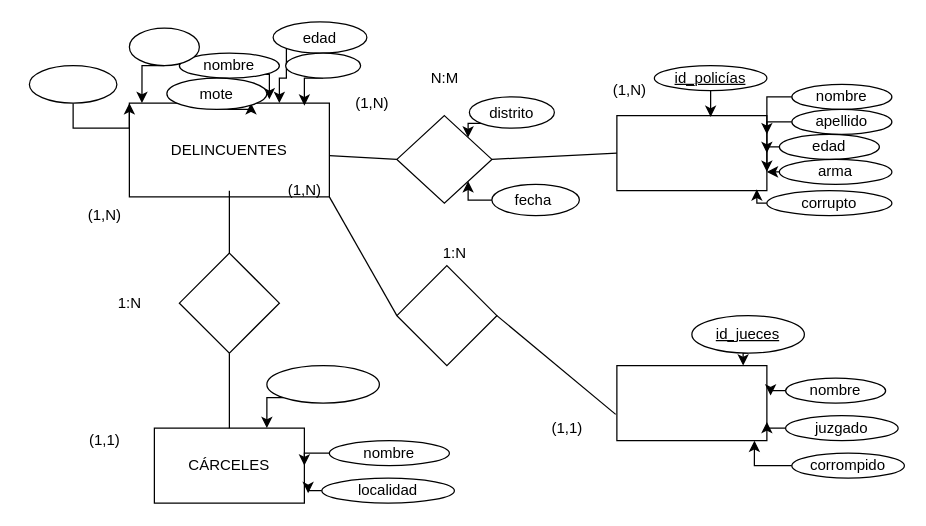
Image size: 926x526. Some labels were removed from this diagram. The centre of each missing label's shape, as x and y in pixels:
carcel: point (163, 46)
detienen: point (444, 158)
especialidad: point (322, 65)
id_cárceles: point (322, 383)
id_delincuentes: point (72, 83)
ingresan: point (228, 302)
JUECES: point (691, 402)
juzgan: point (446, 315)
POLICÍAS: point (691, 152)
